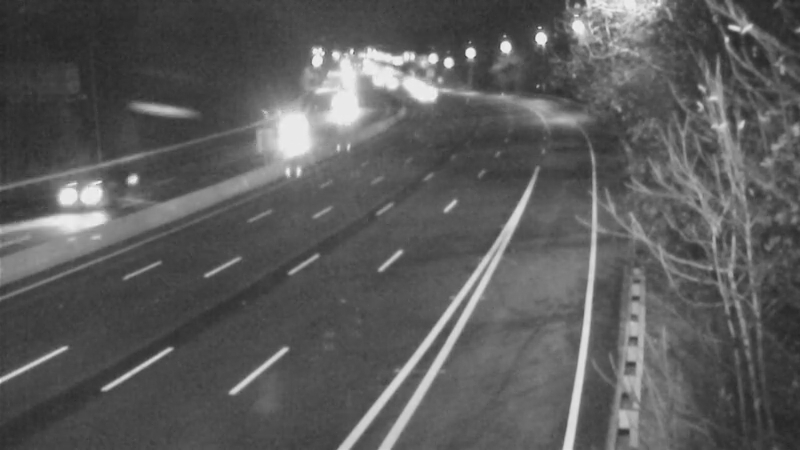vehicle: (34, 155, 114, 235), (391, 62, 441, 112), (403, 74, 453, 124), (269, 110, 319, 160), (320, 81, 370, 131)
